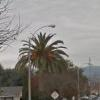Palm tree: (17, 27, 72, 81)
